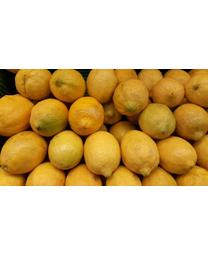lemon: (2, 131, 47, 176), (122, 130, 159, 173), (158, 135, 197, 175), (48, 130, 84, 173), (84, 133, 120, 176), (69, 96, 105, 136), (30, 98, 67, 135), (112, 77, 148, 115), (140, 104, 175, 141), (50, 71, 86, 105), (174, 102, 207, 138), (152, 78, 185, 108)
